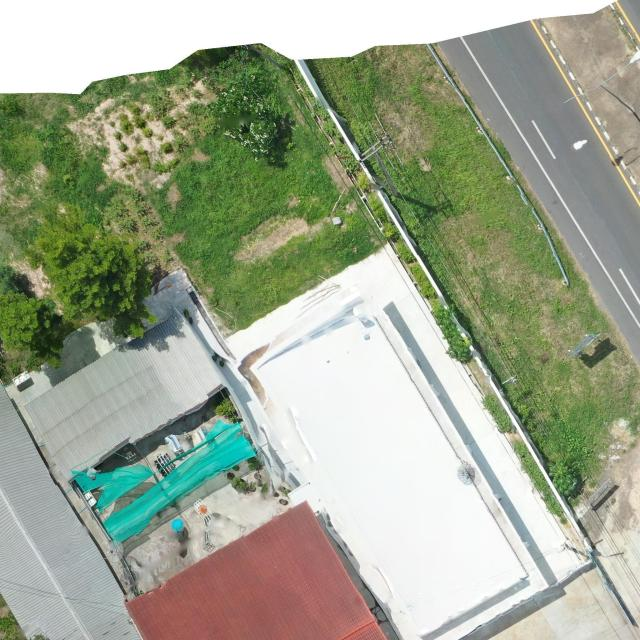Tree: (23, 201, 155, 344), (198, 48, 290, 164), (0, 260, 61, 356), (545, 459, 580, 498)
